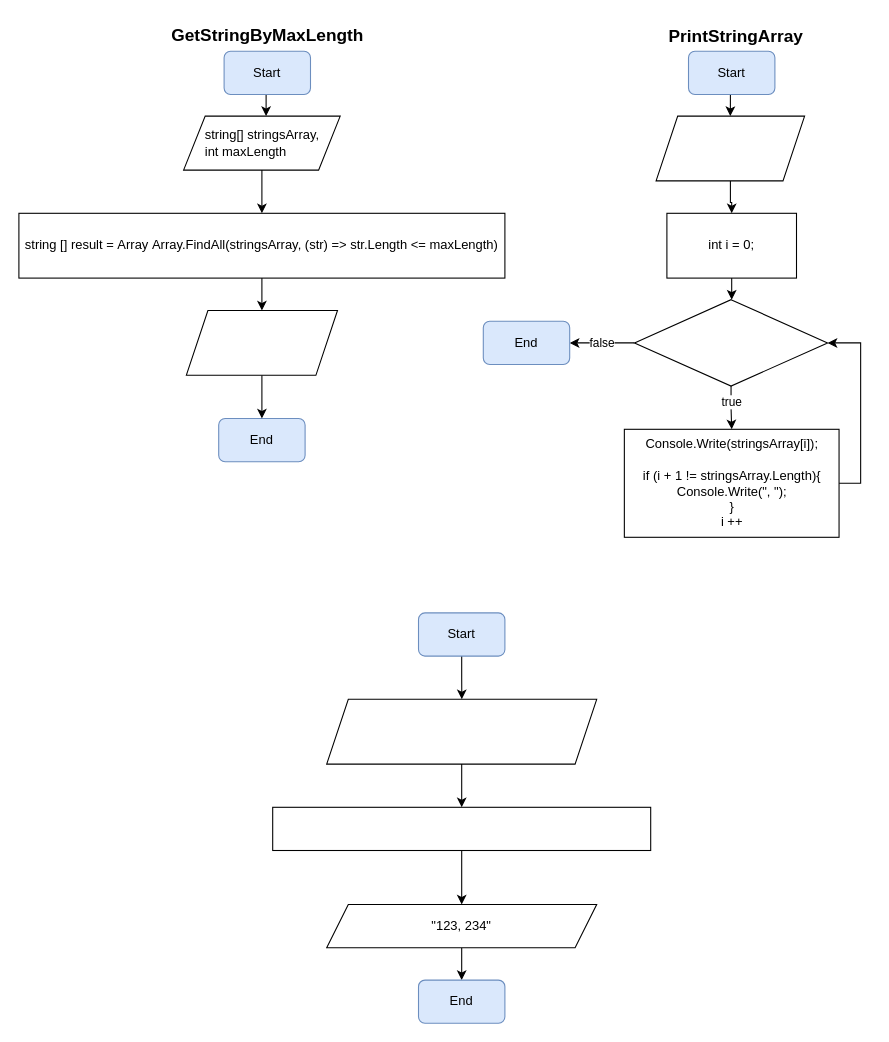
This 889x1042 diagram has some shape labels left out. The shapes that lost their labels are listed below. From the top down, each one's box as (x1, y1, x2, y2) in pixels, then its label:
(655, 115, 805, 181): string[] stringsArray
(185, 309, 338, 375): return result
(633, 299, 828, 386): i < stringsArray.Length
(326, 698, 597, 764): string [] arr = {'123','1234','234','2356,} maxLength = 3
(272, 806, 651, 850): PrintStringArray(GetStringsByMaxLength(arr, maxLength));
